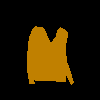maglia: (27, 26, 74, 85)
